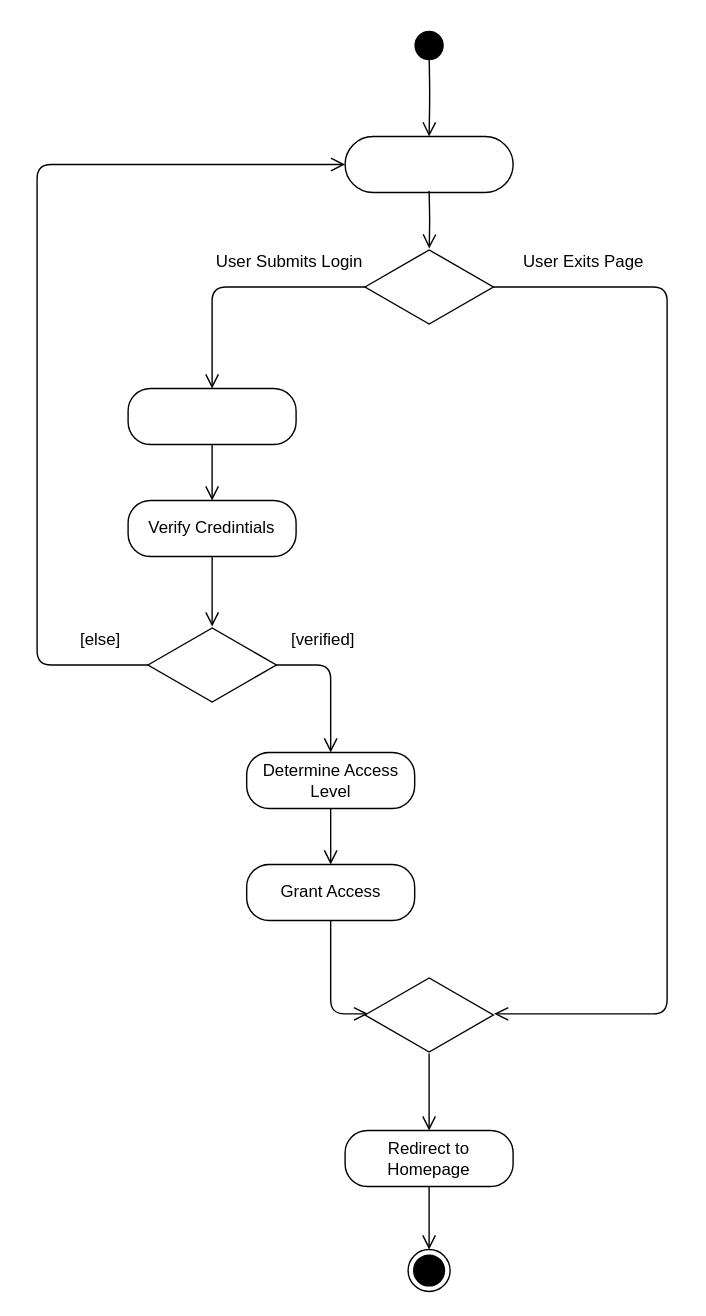
Image size: 706x1316. Some labels were removed from this diagram. The shapes that lost their labels are listed below. From the top down, each one's centre as x and y in pixels, then its label:
the point at 428,163: Redirect to Login Page
the point at 211,415: Process Submission
